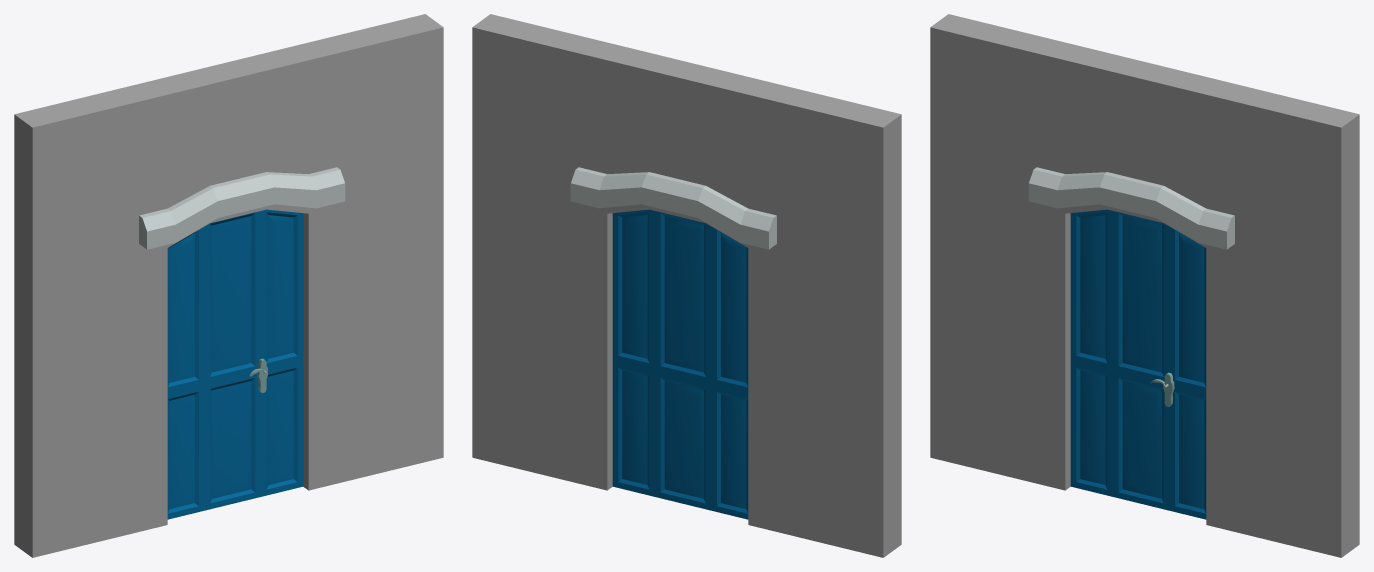
Rendered from NY_STreet_Door_B.fbx.
The picture shows the model from 3 angles, left to right: view 1: azimuth 30°, elevation 25°; view 2: azimuth 150°, elevation 25°; view 3: azimuth 330°, elevation 25°; orthographic projection.
Visible parts, largest first — view 1: NY_STreet_Door_B; view 2: NY_STreet_Door_B; view 3: NY_STreet_Door_B.
Boxes of the visible parts, left/top/right/bottom form: NY_STreet_Door_B: left=14, top=14, right=443, bottom=557; NY_STreet_Door_B: left=472, top=14, right=901, bottom=557; NY_STreet_Door_B: left=930, top=14, right=1359, bottom=557.
Size of the model in its own units: 400 by 400 by 57.77.
